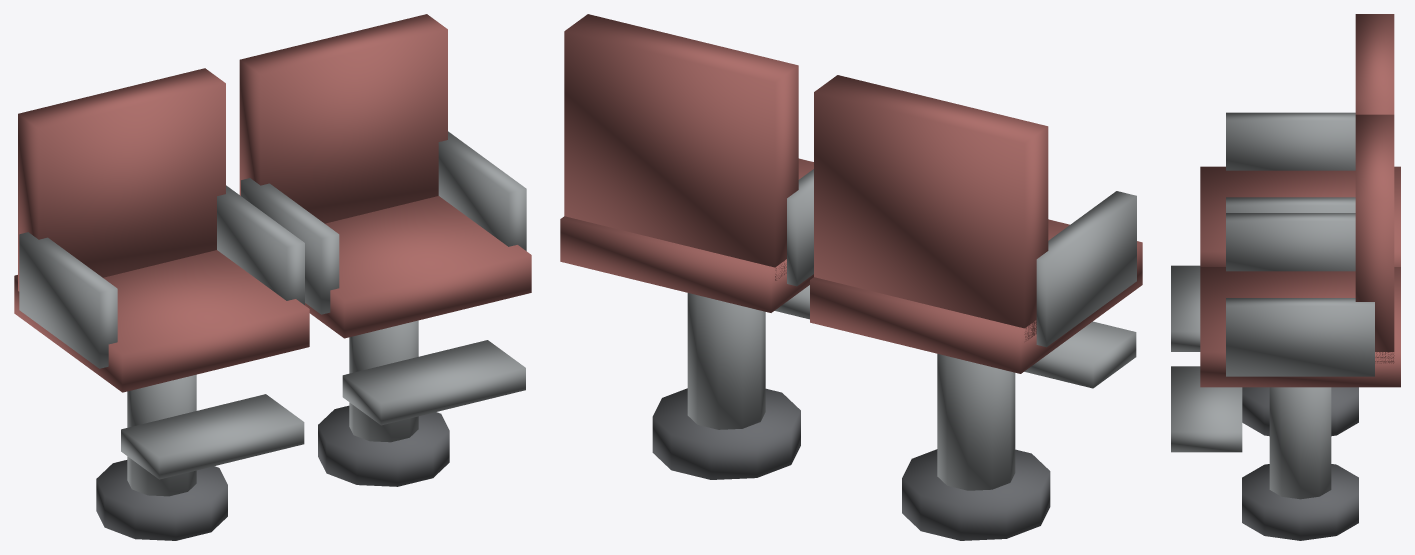
The model's file is barber_chair__cluster.glb.
3 renders of one model, left to right at view 1: azimuth 30°, elevation 25°; view 2: azimuth 150°, elevation 25°; view 3: azimuth 270°, elevation 25°, orthographic. The views are drawn at different scales.
Visible parts, largest first — view 1: world; view 2: world; view 3: world.
Boxes of the visible parts, left/top/right/bottom form: world: left=14, top=14, right=531, bottom=540; world: left=560, top=14, right=1142, bottom=540; world: left=1171, top=14, right=1400, bottom=540.
Bounding box in the file's own units: 1.41 × 1.22 × 0.71.
